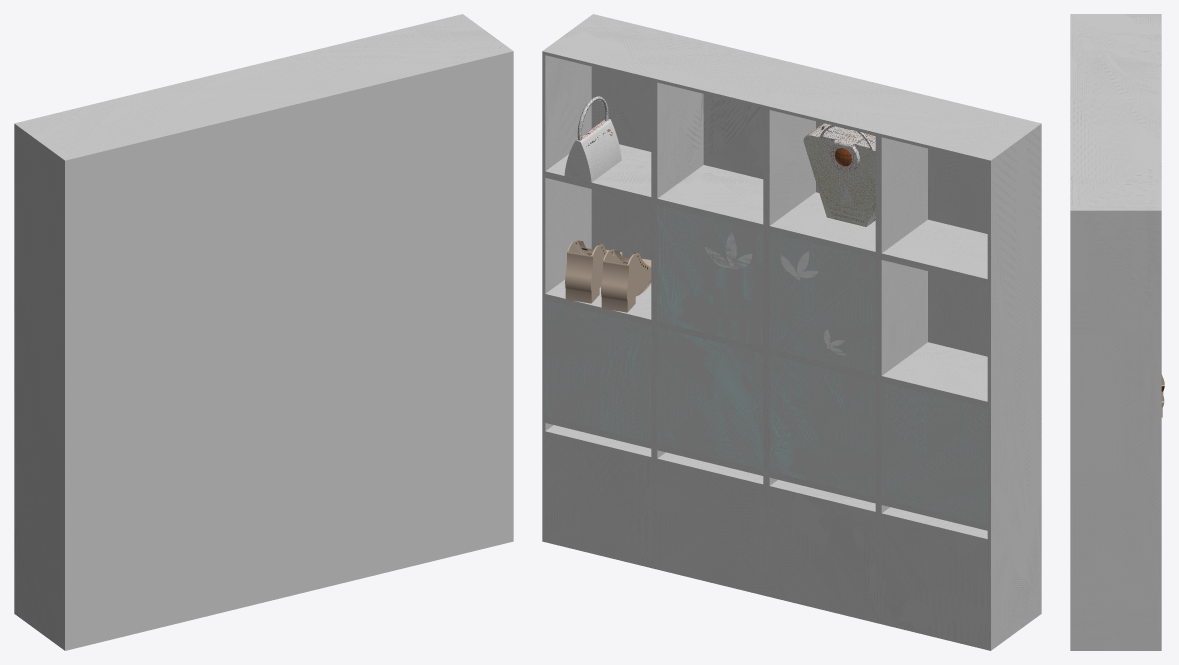
The picture shows the model from 3 angles, left to right: view 1: azimuth 30°, elevation 25°; view 2: azimuth 150°, elevation 25°; view 3: azimuth 270°, elevation 25°; orthographic projection. The views are drawn at different scales.
Parts seen in each view (by area): view 1: mesh41_mesh41-geometry; view 2: mesh41_mesh41-geometry, mesh30_mesh30-geometry, mesh7_mesh7-geometry, mesh1_mesh1-geometry; view 3: mesh41_mesh41-geometry.
Part boxes in pixels (left/top/right/bottom): mesh41_mesh41-geometry: left=14, top=14, right=513, bottom=650; mesh41_mesh41-geometry: left=542, top=14, right=1041, bottom=650; mesh30_mesh30-geometry: left=803, top=123, right=875, bottom=226; mesh7_mesh7-geometry: left=601, top=249, right=651, bottom=312; mesh1_mesh1-geometry: left=565, top=240, right=622, bottom=303; mesh41_mesh41-geometry: left=1070, top=14, right=1161, bottom=650.
Bounding box in the file's own units: 0.6849 × 0.7153 × 0.1392.
